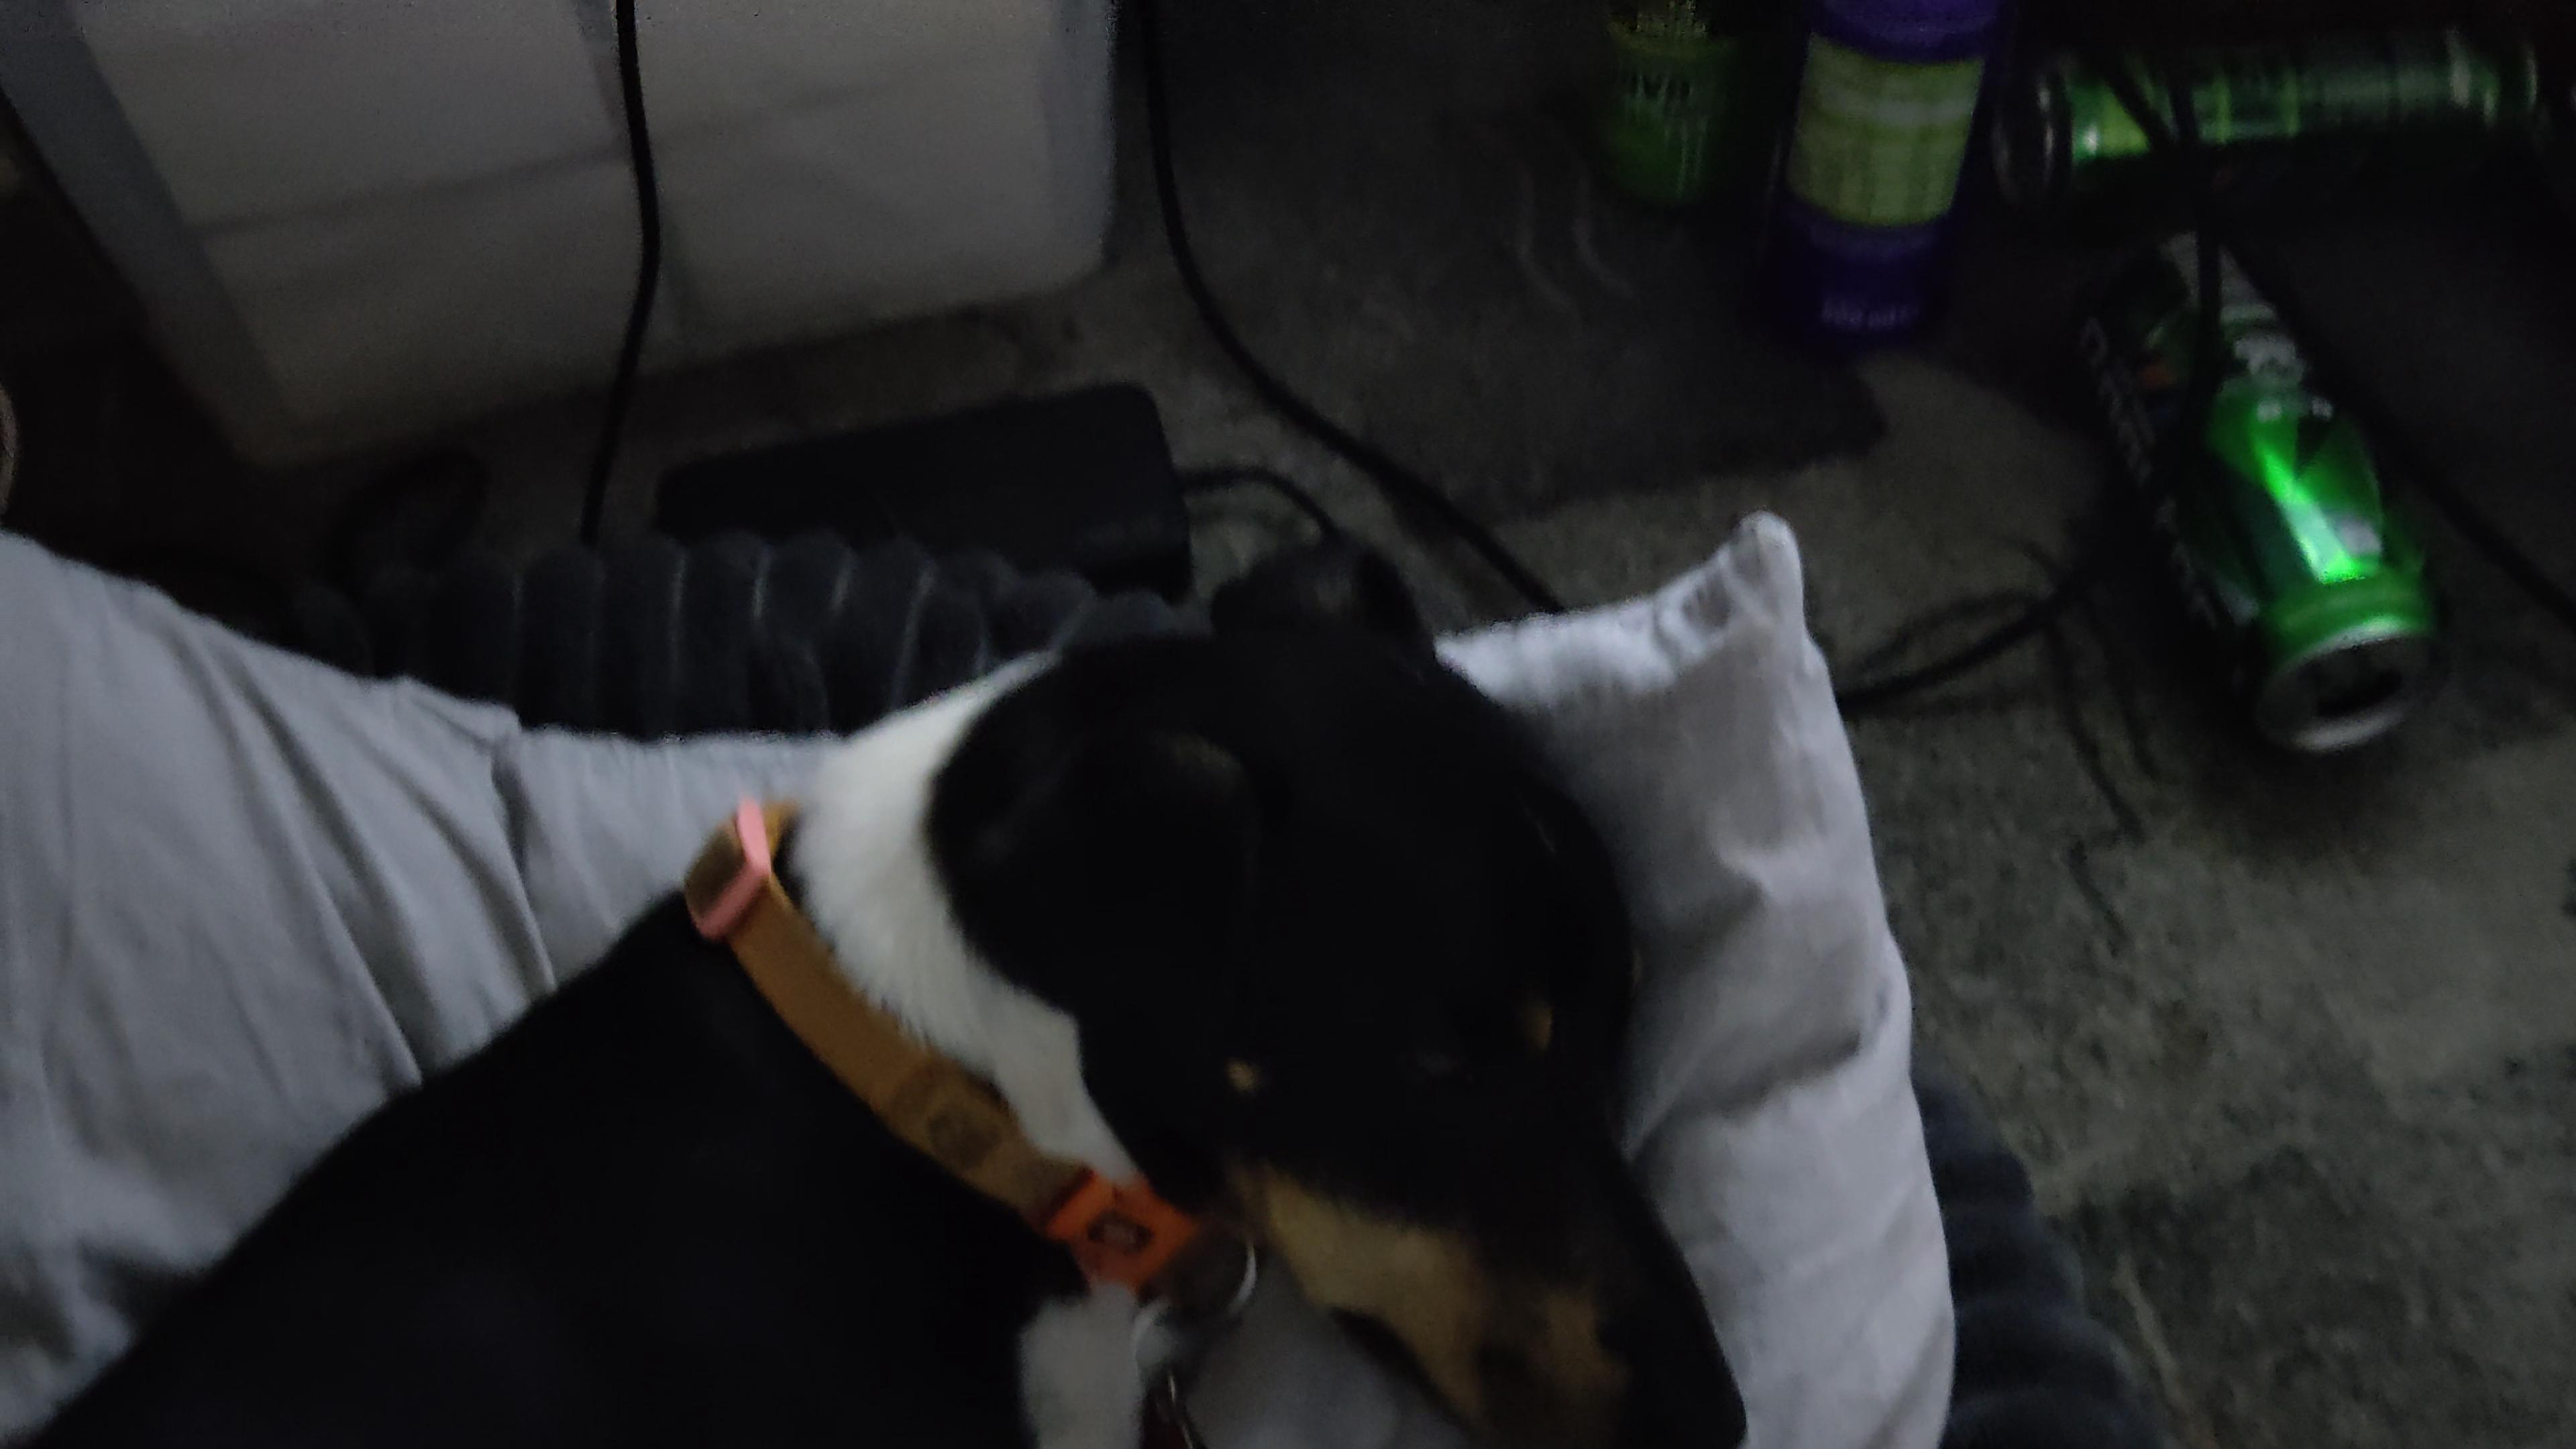Dog: (0, 522, 1755, 1449)
